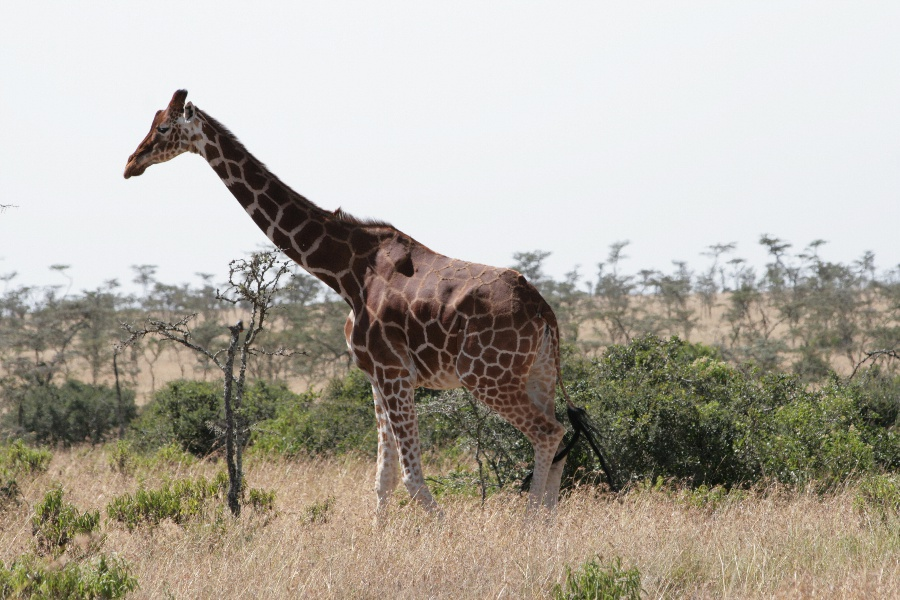giraffe: (115, 83, 584, 520)
